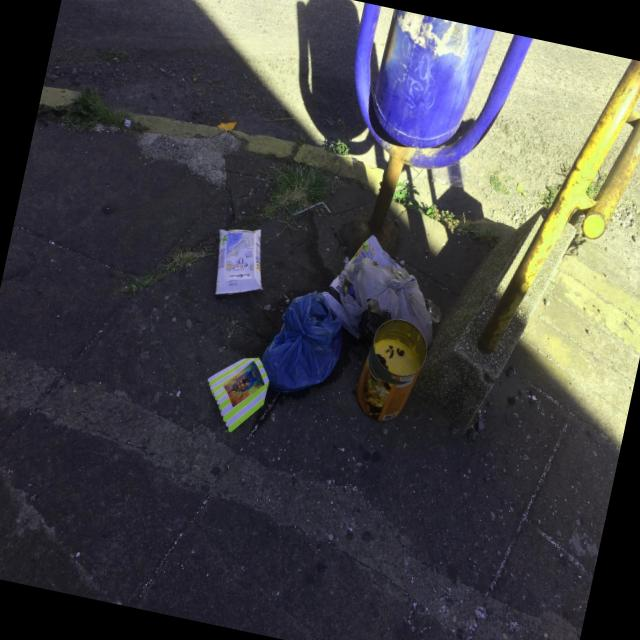less trash: (207, 356, 269, 432), (215, 228, 261, 295)
